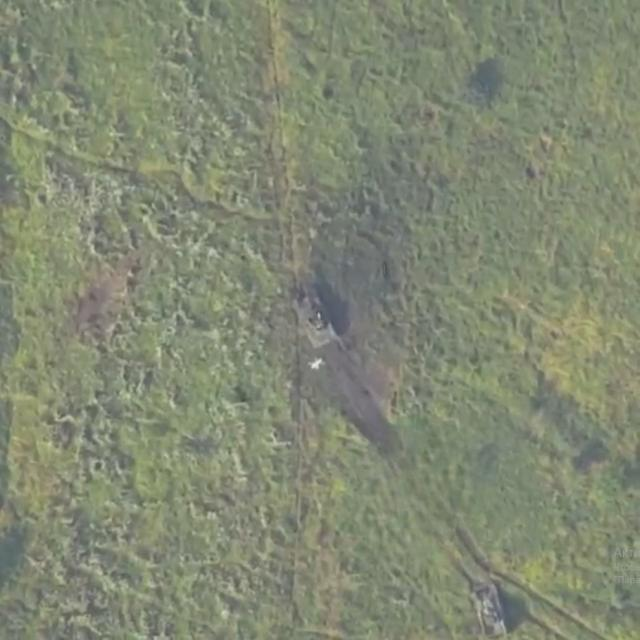MBT: (291, 288, 343, 352), (473, 579, 511, 640)
